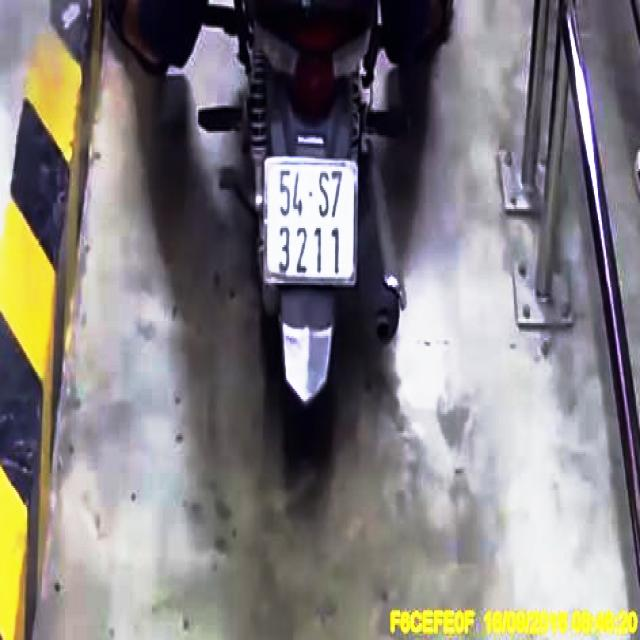license_plate: (266, 160, 356, 282)
